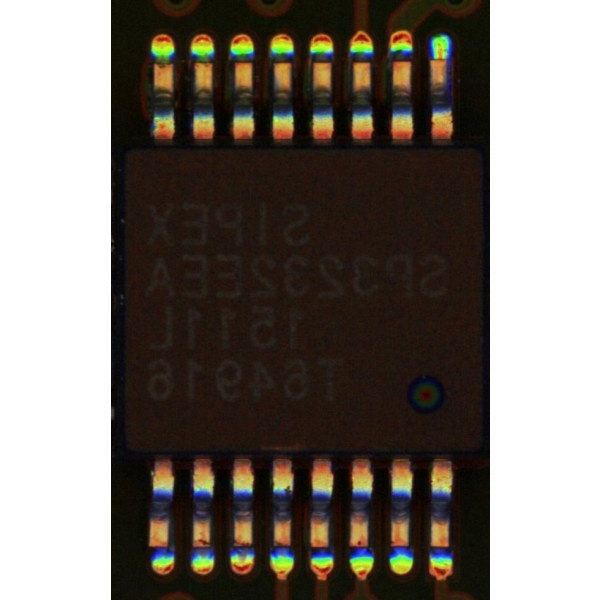Bad_podu: (434, 49, 445, 68)
